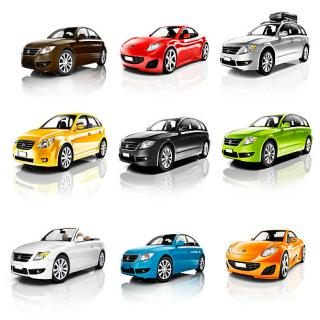Normal_vehicle: (216, 100, 316, 175), (7, 220, 113, 290), (12, 108, 113, 181), (218, 11, 311, 80), (118, 115, 214, 174), (120, 20, 210, 81), (223, 224, 307, 289), (119, 227, 208, 286), (20, 23, 106, 78)
